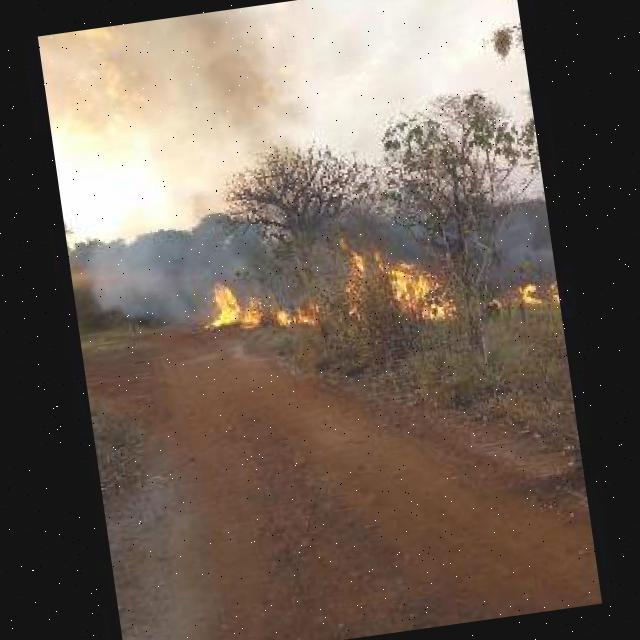Fire: (341, 236, 455, 332), (208, 279, 262, 333), (276, 298, 325, 328), (513, 284, 542, 309)
Smoke: (157, 1, 313, 172), (70, 209, 233, 338)
